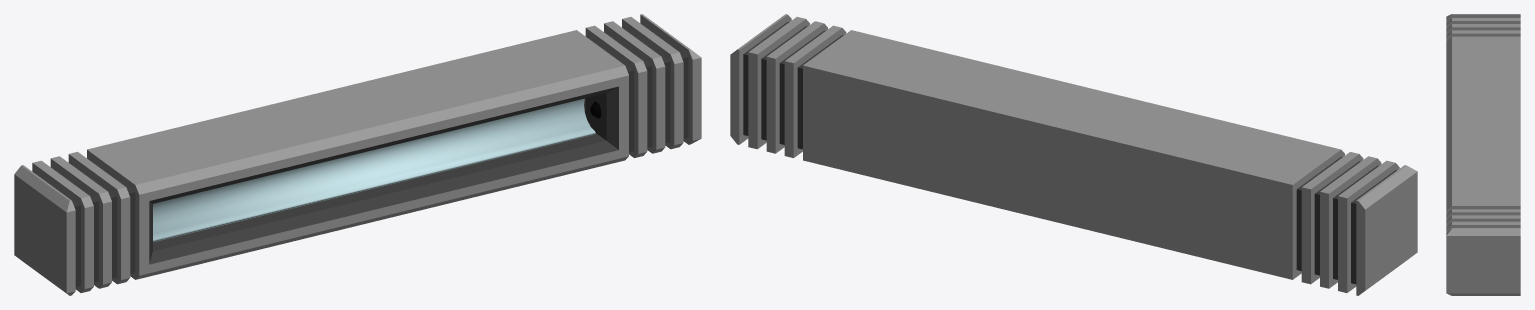
The model's file is lightbridge.fbx.
3 renders of one model, left to right at view 1: azimuth 30°, elevation 25°; view 2: azimuth 150°, elevation 25°; view 3: azimuth 270°, elevation 25°, orthographic. The views are drawn at different scales.
Visible parts, largest first — view 1: casing; view 2: casing; view 3: casing.
Part boxes in pixels (x1,y1,x2,y2): casing: (14, 14, 701, 295); casing: (730, 14, 1417, 295); casing: (1446, 14, 1520, 295).
Bounding box in the file's own units: 140 × 20 × 20.
